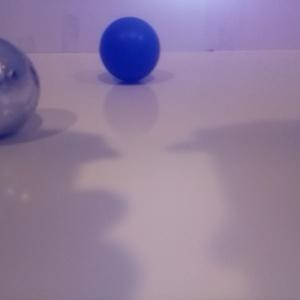alive_ball: (100, 17, 161, 82), (1, 38, 40, 137)
